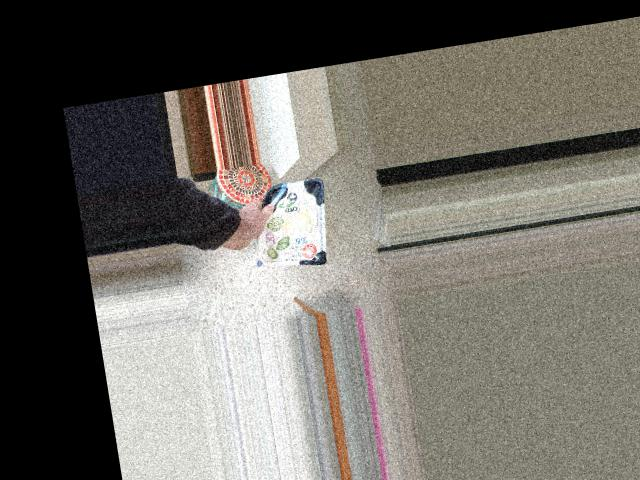cheese: (234, 192, 311, 275)
